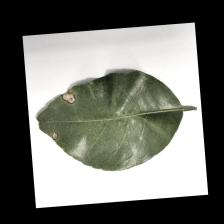canker: (54, 78, 92, 110)
